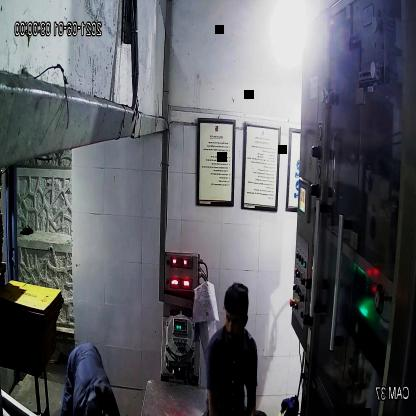no_goggles: (223, 308, 251, 332)
